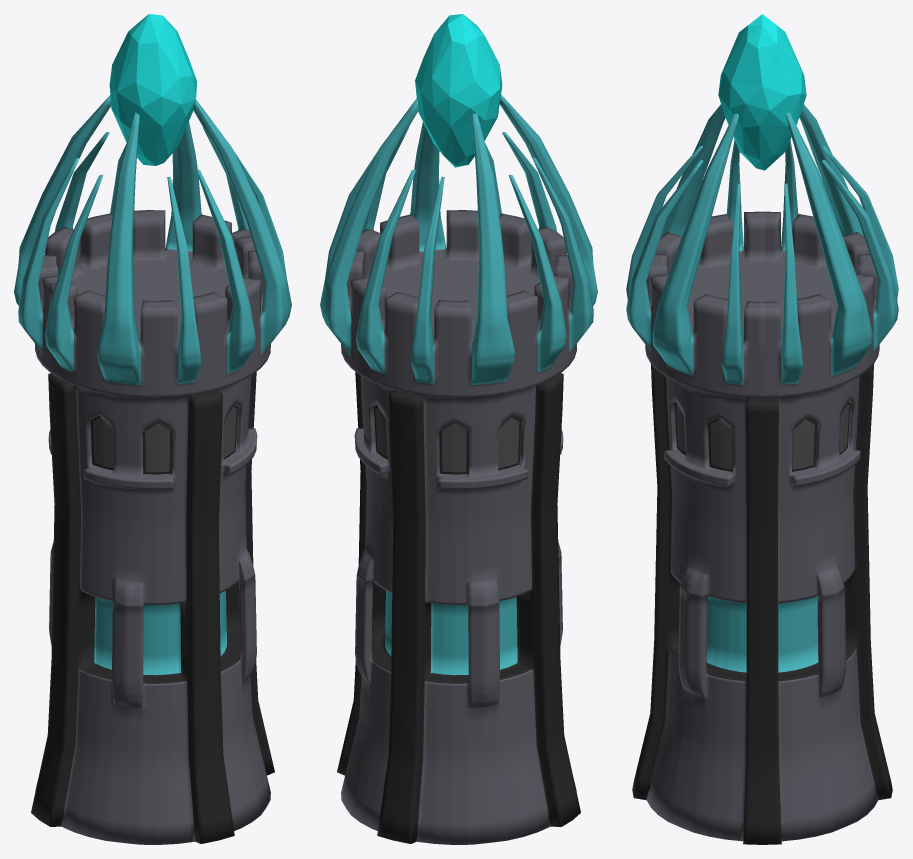
Rendered from IceTower.fbx.
3 views of the same model, side by side, from view 1: azimuth 30°, elevation 25°; view 2: azimuth 150°, elevation 25°; view 3: azimuth 270°, elevation 25° (orthographic).
Parts seen in each view (by area): view 1: IceTower; view 2: IceTower; view 3: IceTower.
Boxes of the visible parts, x1,y1,x2,y2 form: IceTower: (14, 14, 291, 844); IceTower: (320, 14, 597, 844); IceTower: (626, 14, 898, 844).
Size of the model in its own units: 0.8134 by 2.56 by 0.8149.
